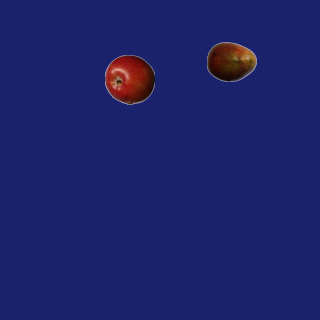Apple Braeburn: (104, 54, 154, 104)
Mango Red: (206, 36, 256, 86)
